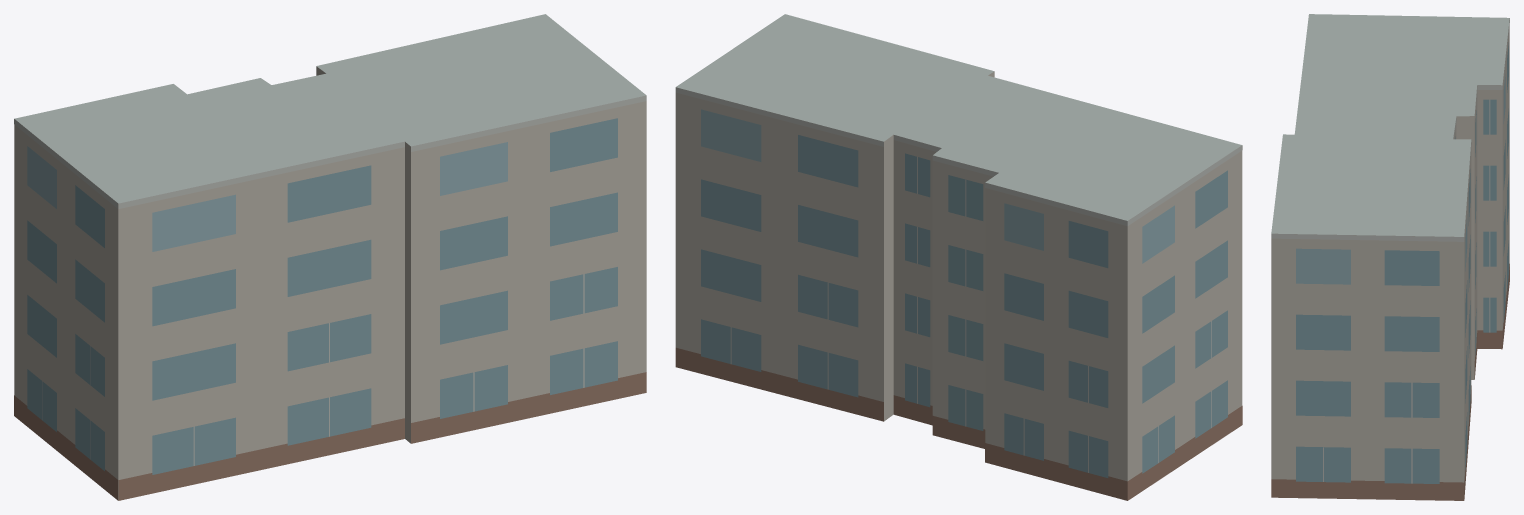
The model's file is survey-upis-33014657.glb.
3 renders of one model, left to right at view 1: azimuth 30°, elevation 25°; view 2: azimuth 150°, elevation 25°; view 3: azimuth 270°, elevation 25°, orthographic. The views are drawn at different scales.
Visible parts, largest first — view 1: survey-upis-33014657.tmp; view 2: survey-upis-33014657.tmp; view 3: survey-upis-33014657.tmp.
Part boxes in pixels (left/top/right/bottom): survey-upis-33014657.tmp: left=14, top=14, right=646, bottom=500; survey-upis-33014657.tmp: left=675, top=14, right=1242, bottom=500; survey-upis-33014657.tmp: left=1271, top=14, right=1509, bottom=500.
Size of the model in its own units: 23.47 by 12.95 by 10.61.
